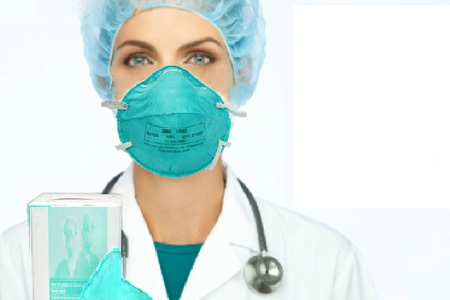face_mask: (114, 18, 230, 174)
